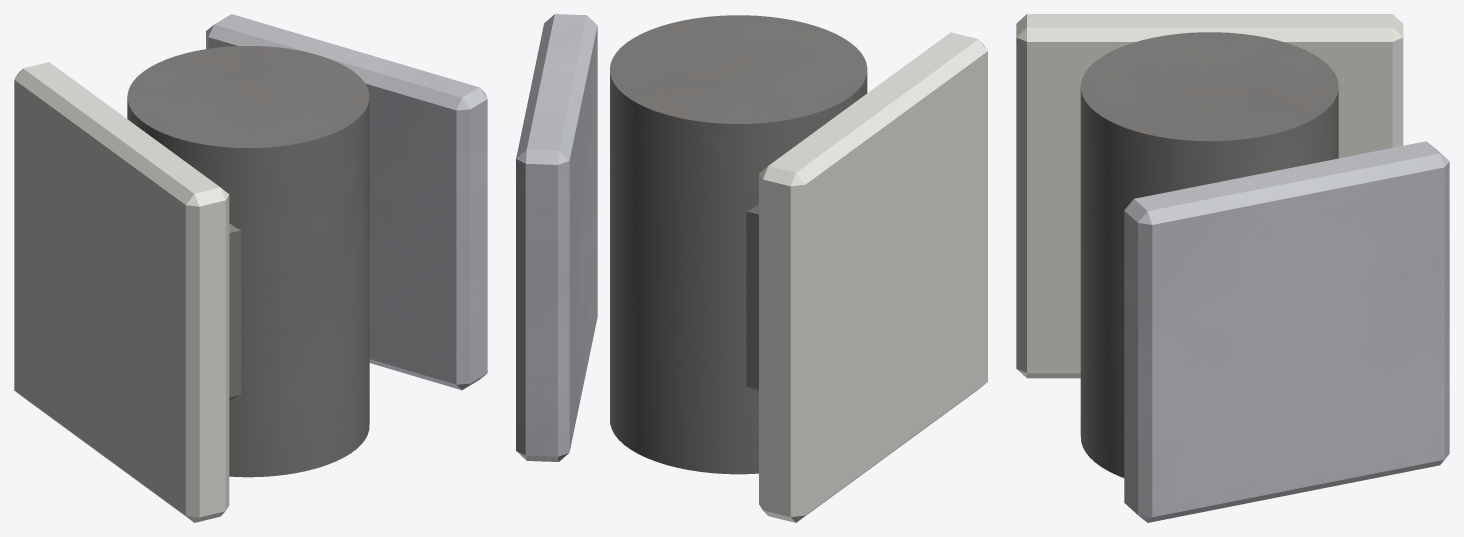
Rendered from ax_rover_19_steering_module_steer_left.glb.
3 renders of one model, left to right at view 1: azimuth 30°, elevation 25°; view 2: azimuth 150°, elevation 25°; view 3: azimuth 270°, elevation 25°, orthographic. The views are drawn at different scales.
Visible parts, largest first — view 1: mount_plate, actuator_body, steer_plate; view 2: mount_plate, actuator_body, steer_plate; view 3: steer_plate, actuator_body, mount_plate.
Boxes of the visible parts, bbox=[...] form: mount_plate: bbox=[14, 62, 229, 522]; actuator_body: bbox=[127, 46, 369, 477]; steer_plate: bbox=[206, 14, 487, 390]; mount_plate: bbox=[759, 32, 987, 522]; actuator_body: bbox=[610, 15, 867, 474]; steer_plate: bbox=[516, 14, 597, 461]; steer_plate: bbox=[1124, 141, 1449, 522]; actuator_body: bbox=[1080, 32, 1338, 477]; mount_plate: bbox=[1016, 14, 1403, 378].
Bounding box in the file's own units: 0.4101 × 0.36 × 0.4032.
3 materials, 2 textured.
